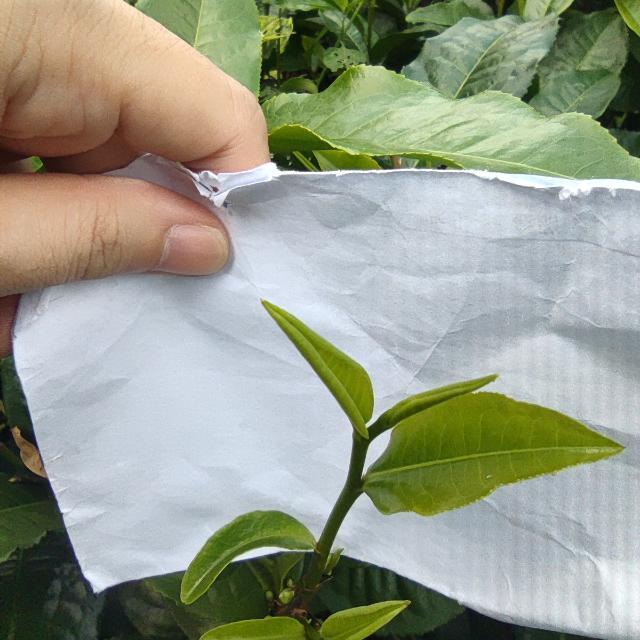Stem: (351, 445, 366, 466)
